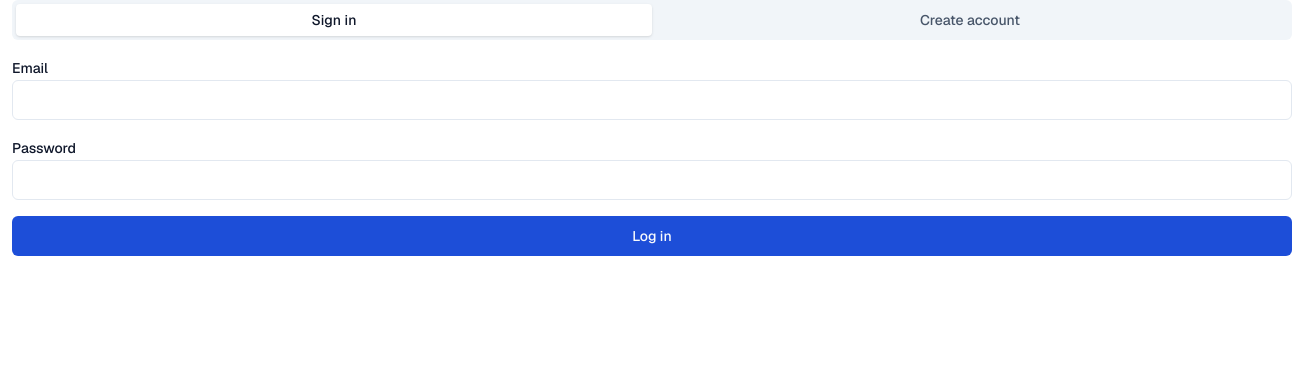
Test: AuthForm › shows password mismatch error on sign up
This screenshot has width=1304, height=381.
Click the tab "Create account" at (970, 20), box top-left (652, 4), bottom-right (1288, 36)
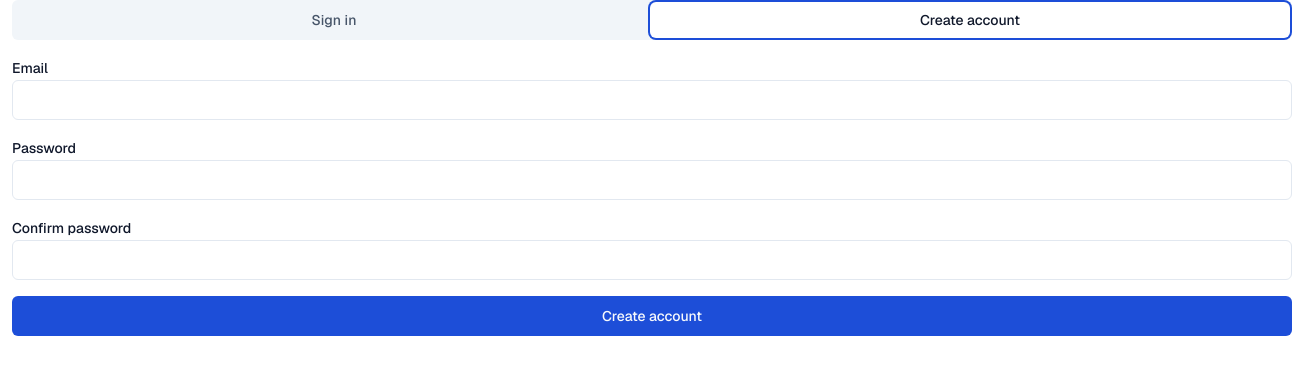
Type "user@example.com" into the field with id "signup-email" at (652, 100), box top-left (12, 80), bottom-right (1292, 120)
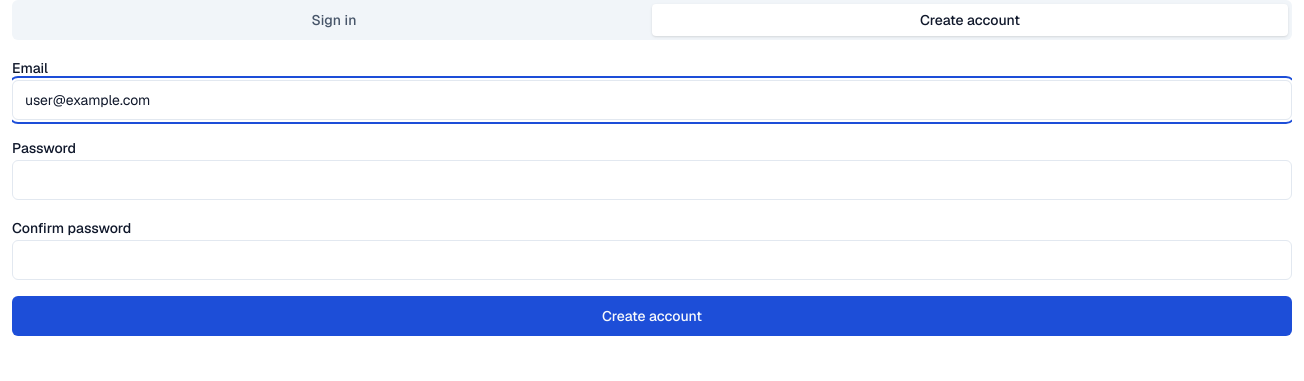
Type "secret1" into the password field with id "signup-password" at (652, 180), box top-left (12, 160), bottom-right (1292, 200)
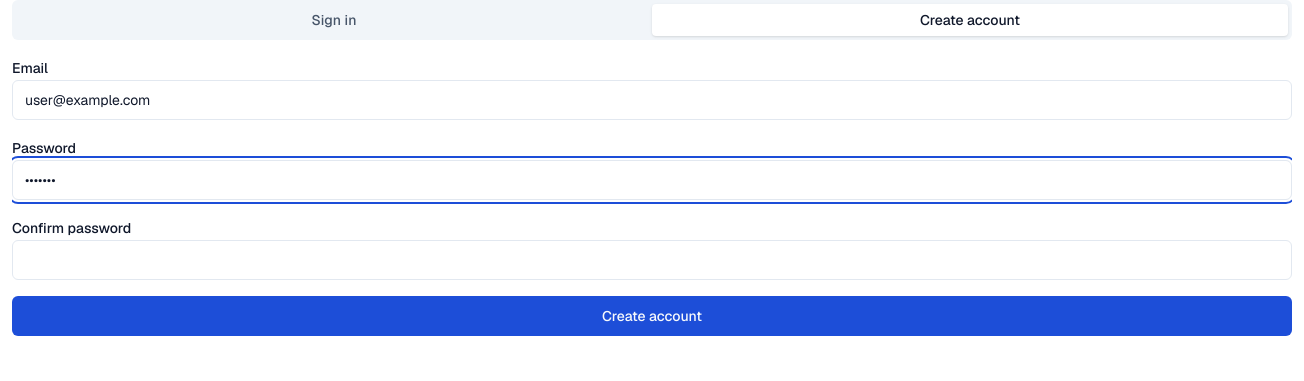
Type "different" into the password field with id "signup-confirm" at (652, 260), box top-left (12, 240), bottom-right (1292, 280)
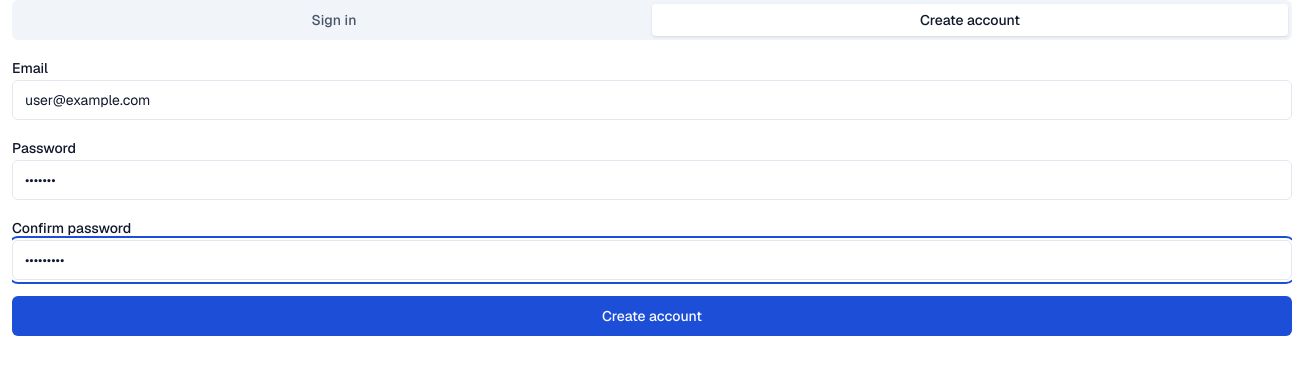
Click the button "Create account" at (652, 316), box top-left (12, 296), bottom-right (1292, 336)
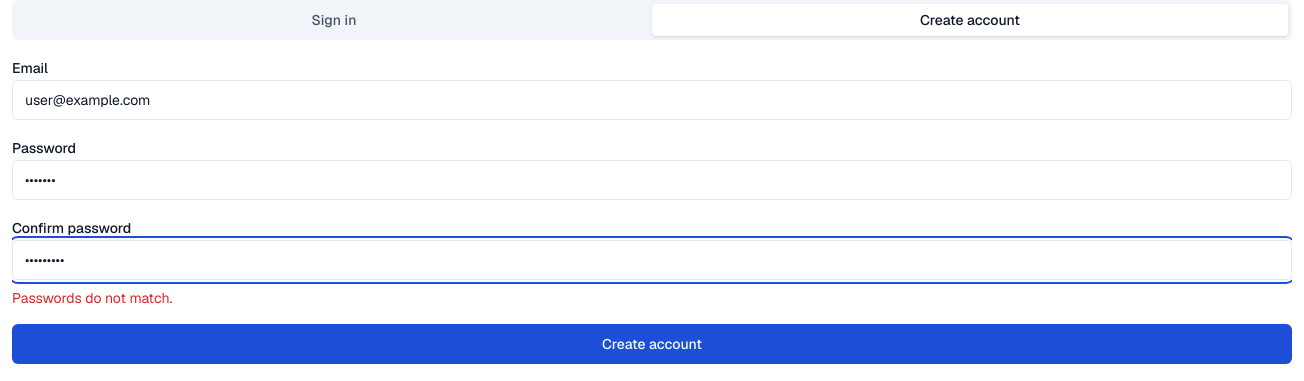
Check: the text "Passwords do not match." is shown, box top-left (12, 289), bottom-right (172, 307)
